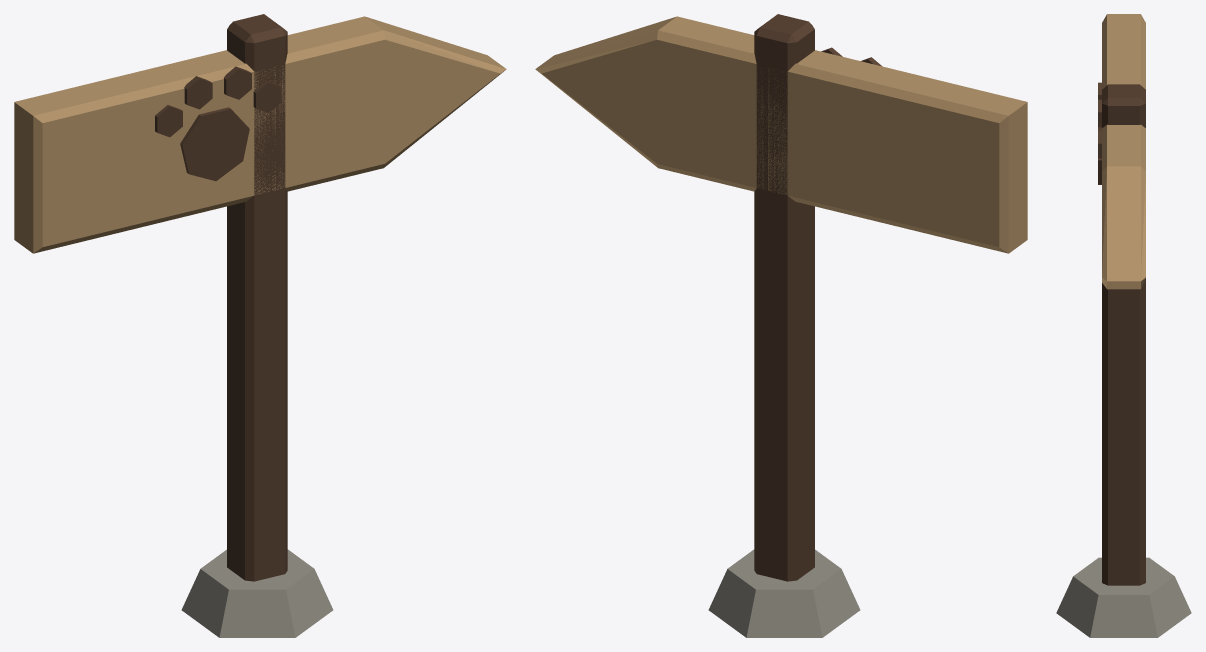
The model's file is signpost.glb.
The picture shows the model from 3 angles, left to right: view 1: azimuth 30°, elevation 25°; view 2: azimuth 150°, elevation 25°; view 3: azimuth 270°, elevation 25°; orthographic projection. The views are drawn at different scales.
Parts seen in each view (by area): view 1: surface; view 2: surface; view 3: surface.
Part boxes in pixels (left/top/right/bottom): surface: left=14, top=14, right=506, bottom=637; surface: left=535, top=14, right=1027, bottom=637; surface: left=1056, top=14, right=1191, bottom=637.
Bounding box in the file's own units: 1.44 × 1.7 × 0.4.
